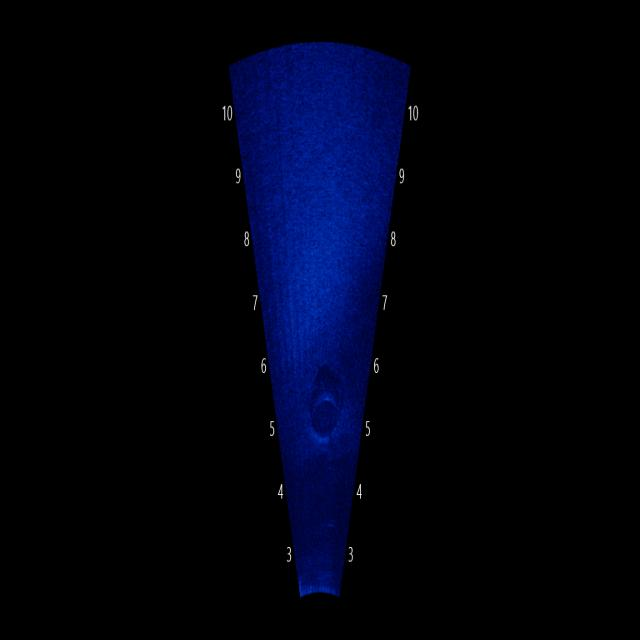circle: (307, 381, 342, 448)
